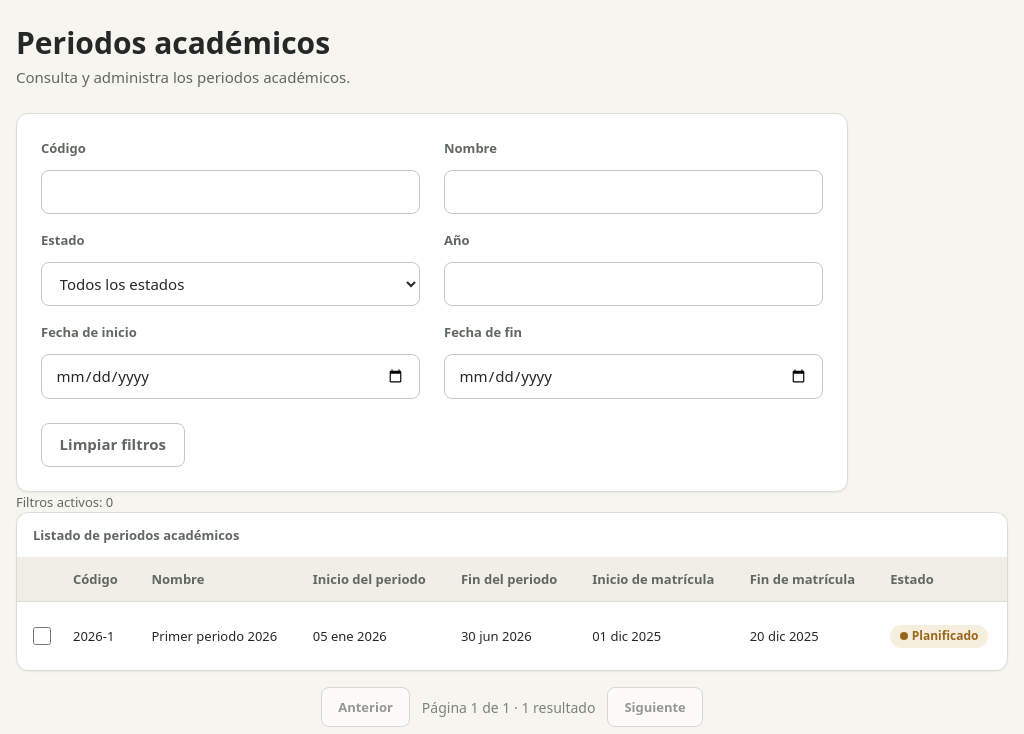
Test: ListadoPeriodosComponent › un usuario no administrador ve una barra contextual vacía al seleccionar
Click the cell "2026-1" at (96, 636), box left=57, top=602, right=136, bottom=670
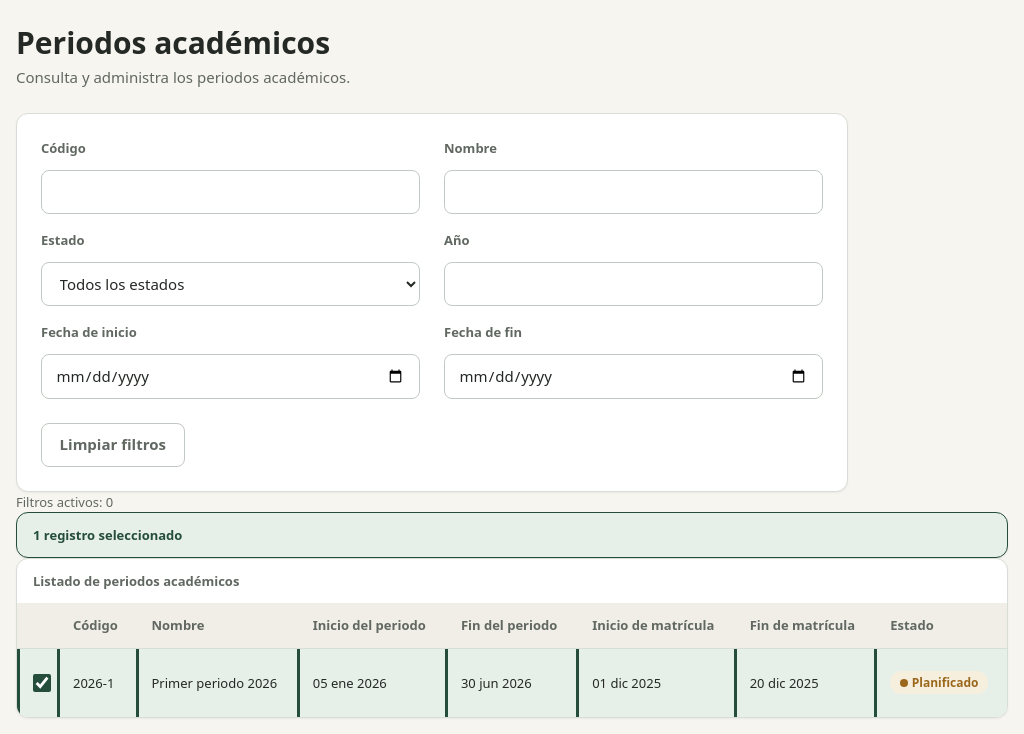
Check: the text "1 registro seleccionado" is shown, box left=33, top=525, right=182, bottom=545
